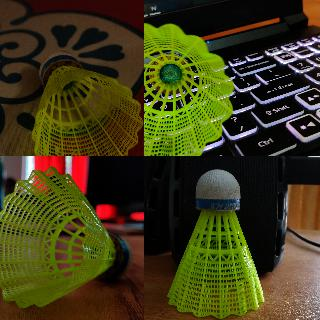shuttlecock: (0, 165, 131, 307), (166, 169, 264, 319), (31, 50, 144, 155), (144, 22, 233, 155)
